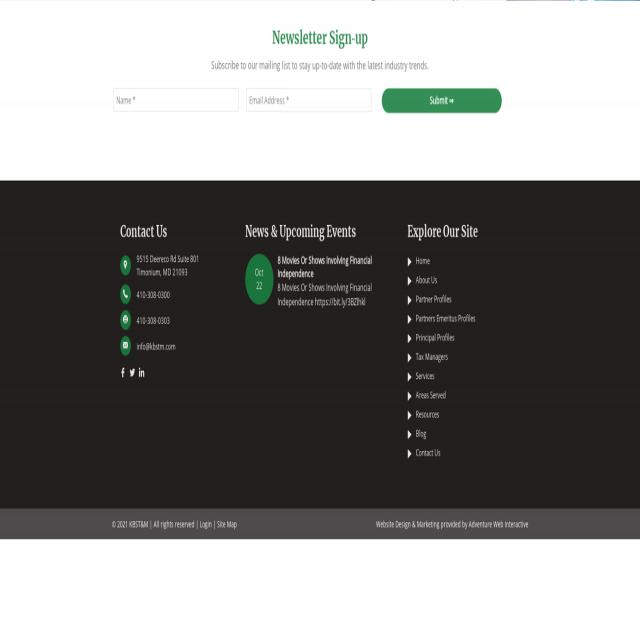button: (383, 89, 503, 114)
field: (113, 89, 239, 112), (245, 89, 371, 112)
